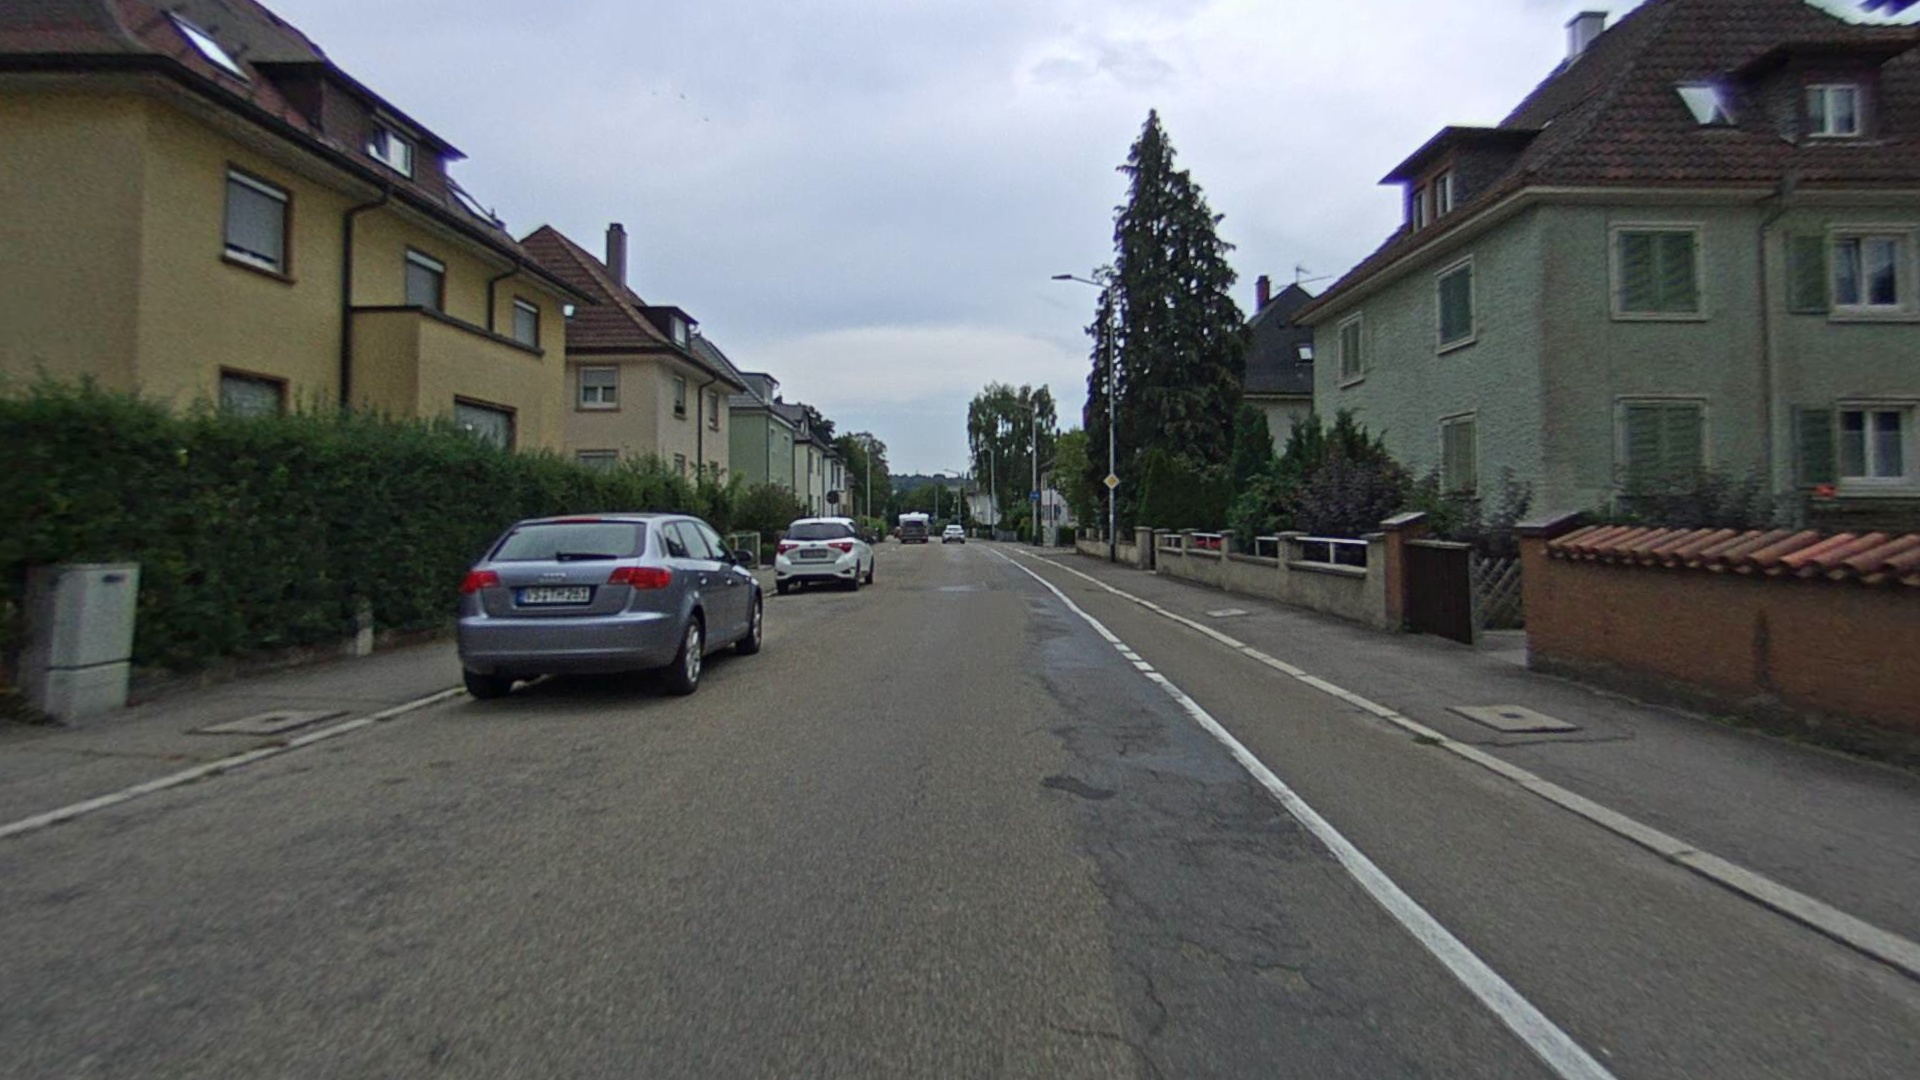car: (454, 510, 765, 699), (771, 516, 876, 593)
